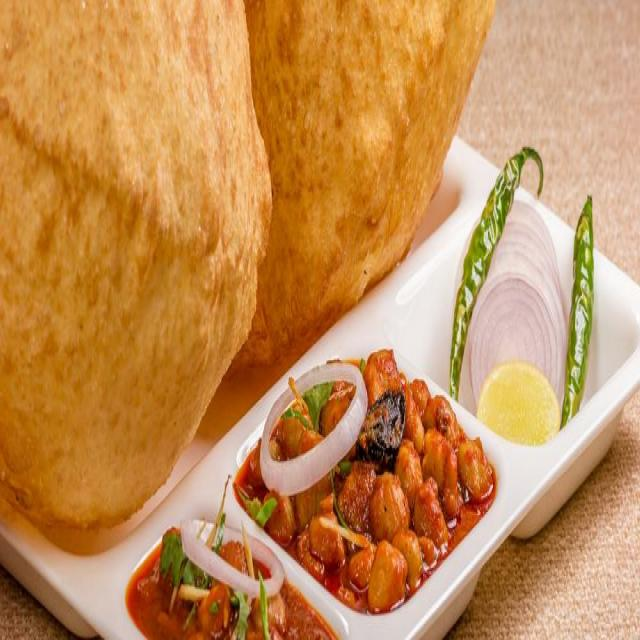Bhatura: (1, 1, 272, 518), (221, 0, 499, 381)
Chole: (244, 336, 492, 610)
